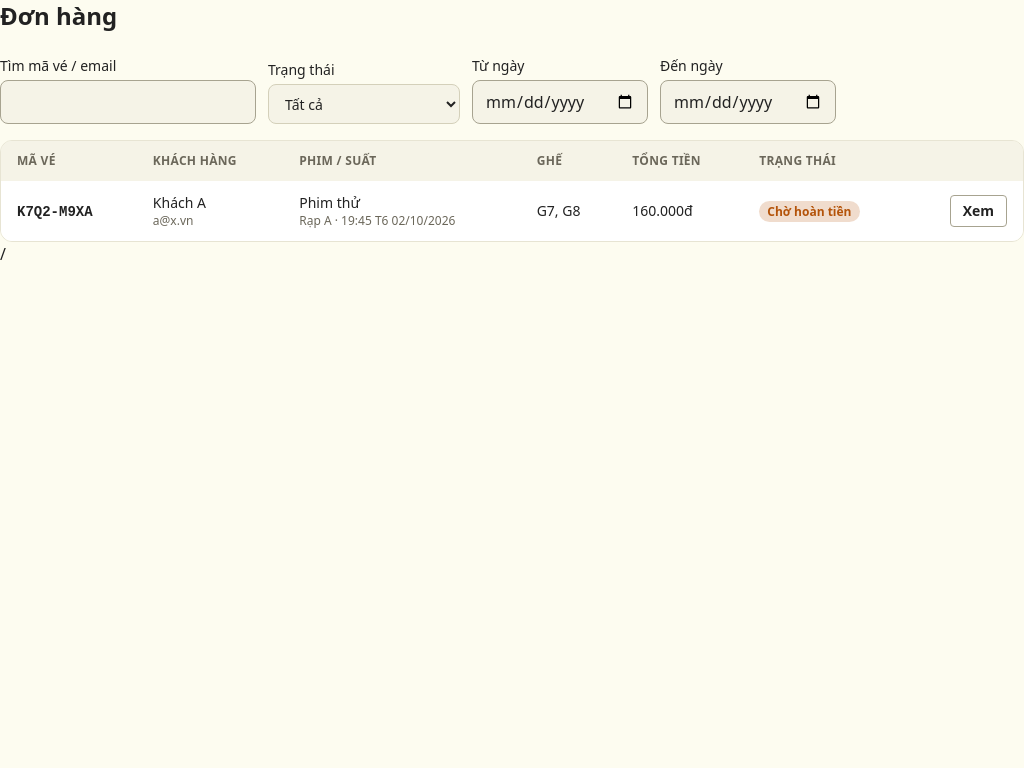
Scenario: AdminOrdersPage (A06) › hai admin cùng bấm: lỗi ORDER_NOT_PENDING được giải thích
The image size is (1024, 768).
What coordinates should you click on to do the following:
click the button with aria-label "Xem đơn K7Q2-M9XA"
I would click on:
 (978, 211)
Its box is x1=950 y1=195 x2=1007 y2=227.
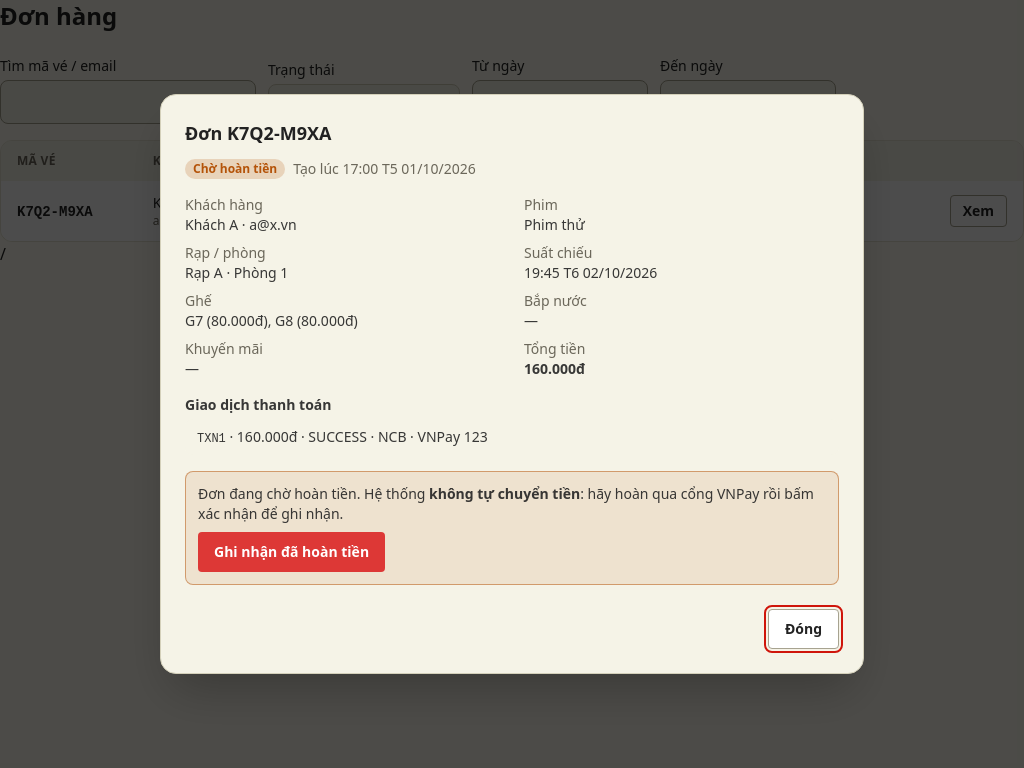
What coordinates should you click on to do the following:
click the button "Ghi nhận đã hoàn tiền"
I would click on:
 (292, 552)
Its box is x1=198 y1=532 x2=385 y2=572.
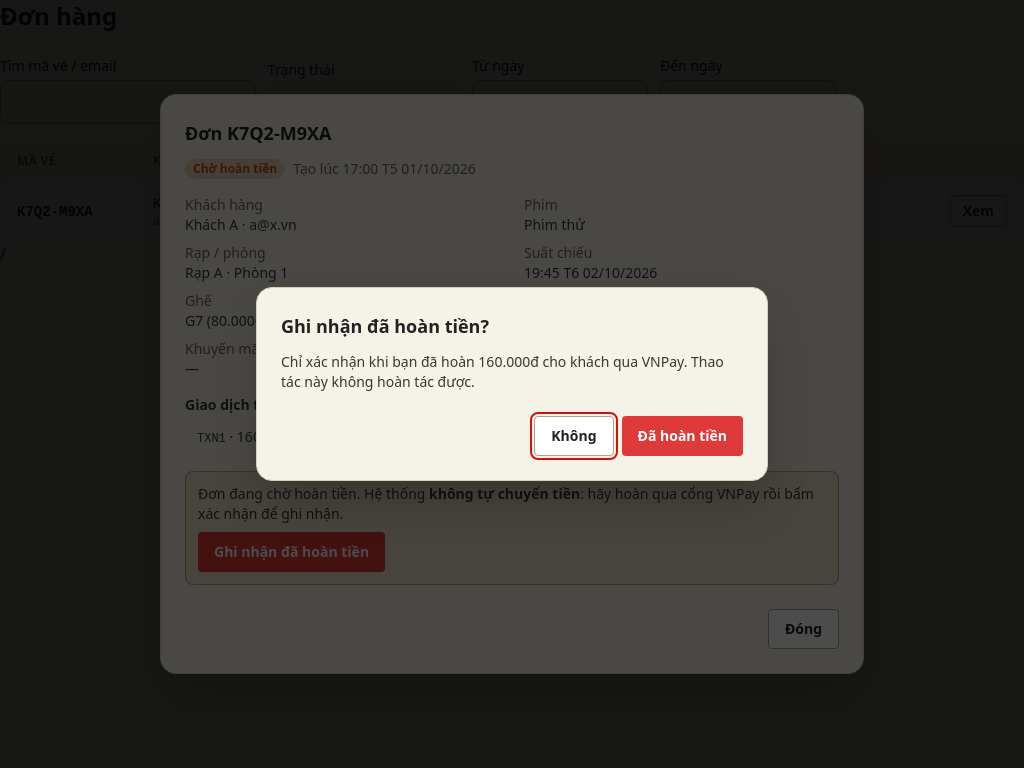
What coordinates should you click on to do the following:
click the button "Đã hoàn tiền"
I would click on:
 (682, 436)
Its box is x1=622 y1=416 x2=743 y2=456.
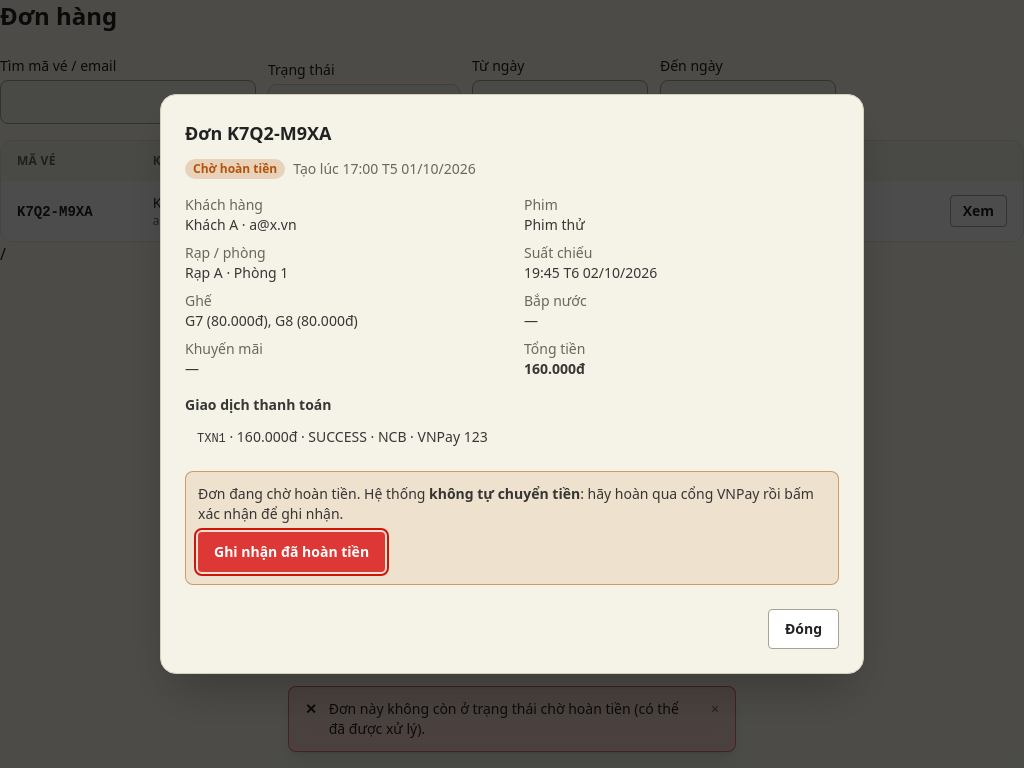
expect the text "không còn ở trạng thái chờ hoàn tiền" is shown: met, box x1=329 y1=699 x2=679 y2=738
